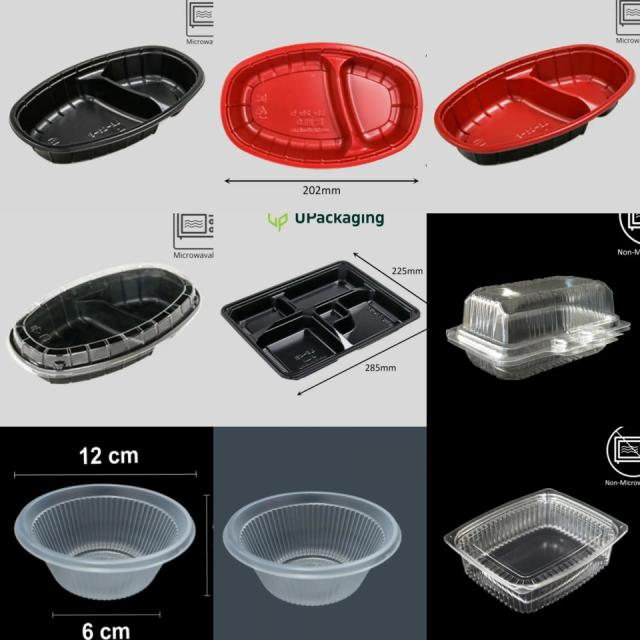Single-Use-Plastic: (221, 42, 422, 168), (435, 45, 635, 164), (221, 261, 420, 379), (10, 46, 204, 163), (9, 264, 200, 382), (445, 489, 628, 612), (15, 484, 195, 599), (222, 491, 401, 606), (446, 276, 630, 379)
